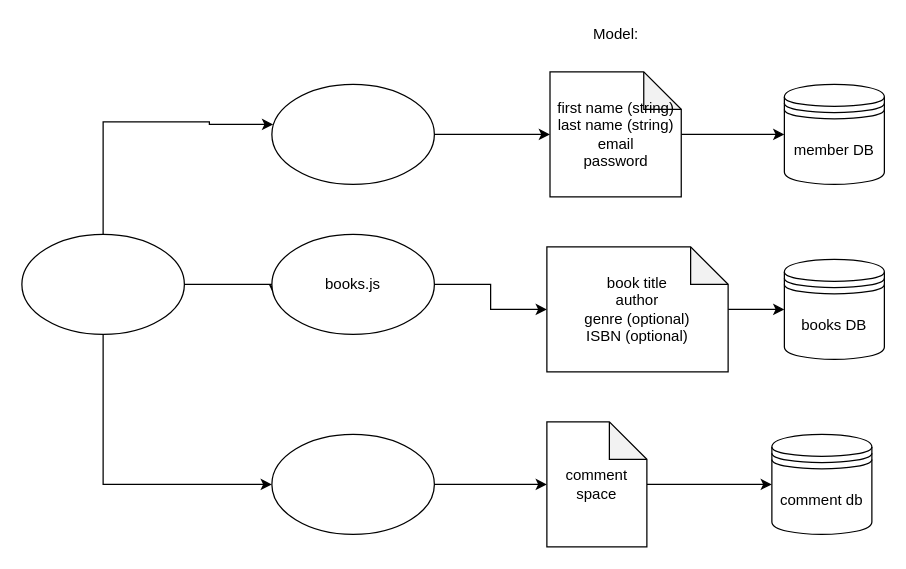
Some shapes in this 906 by 569 pixel diagram are drawn without their labels. Here are the shapes that lost their labels. From the top down, the centre of each, then its label:
the point at 352,133: members.js
the point at 102,283: Server.js
the point at 352,483: comments.js
